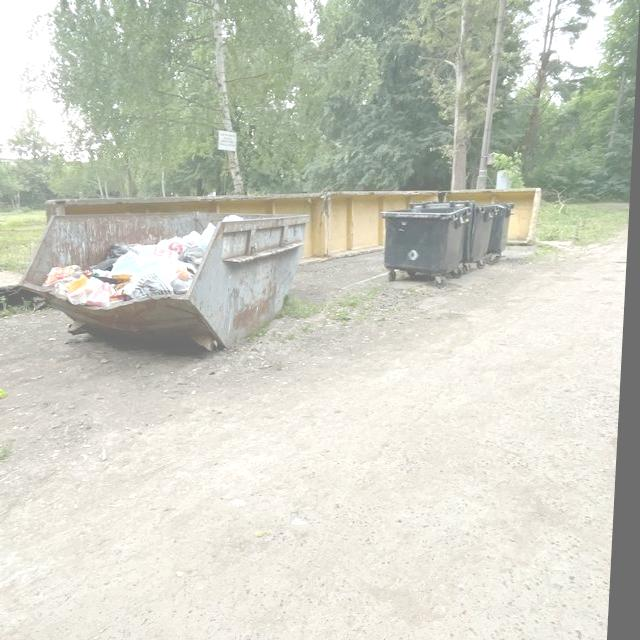Trash_Can_Empty: (380, 202, 469, 274), (467, 202, 497, 261), (496, 270, 498, 270)
